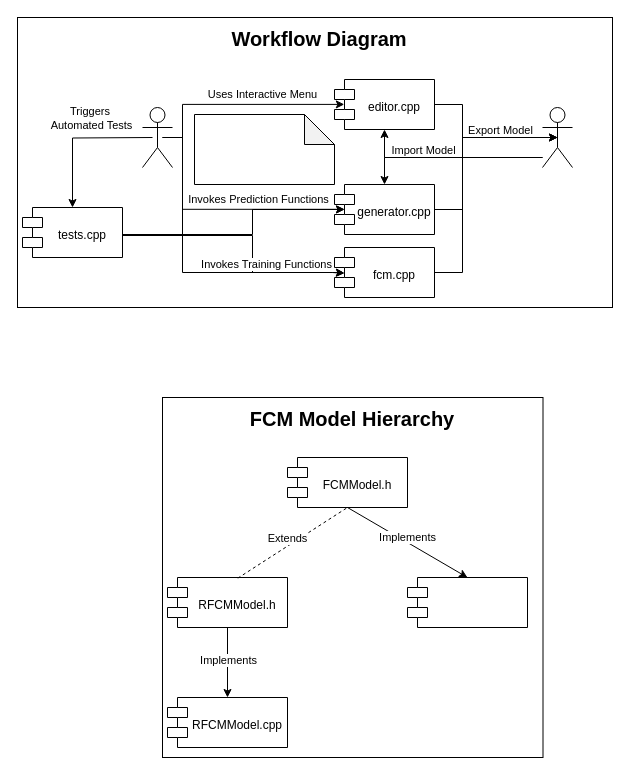
This 630x775 diagram has some shape labels left out. Each missing label, with the centre of its shape:
"All 3 modules on the right interact with model implementations" goes at (x=264, y=149).
"Exported Model (JSON or binary)" goes at (x=557, y=137).
"FCMModel.cpp" goes at (x=467, y=602).
"User" goes at (x=157, y=137).
